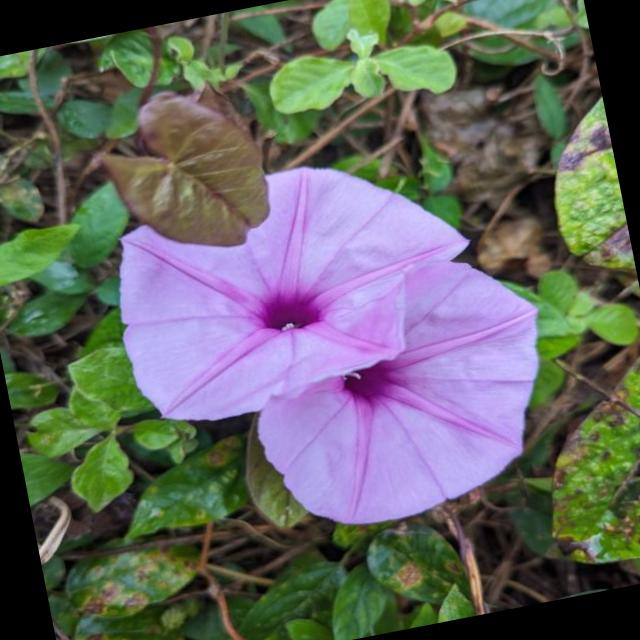ipomoea: (92, 124, 576, 568), (228, 242, 576, 546)
